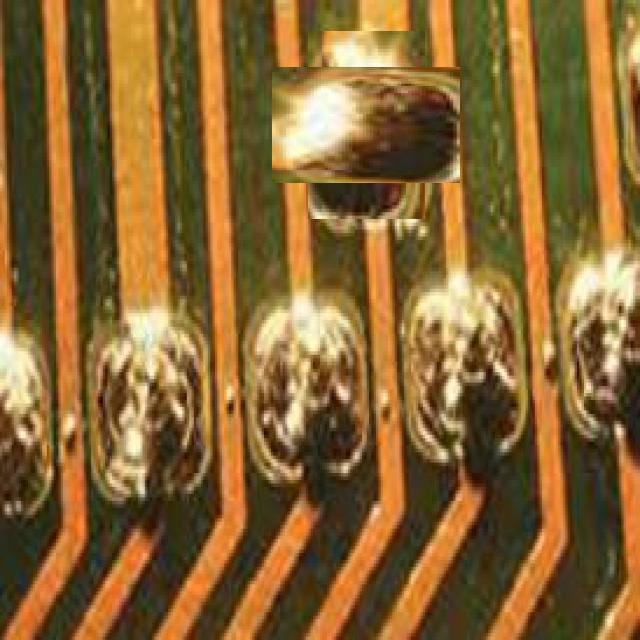slug: (290, 49, 443, 201)
